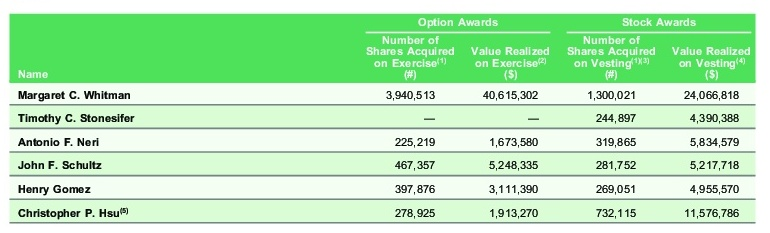table: (0, 0, 770, 233)
